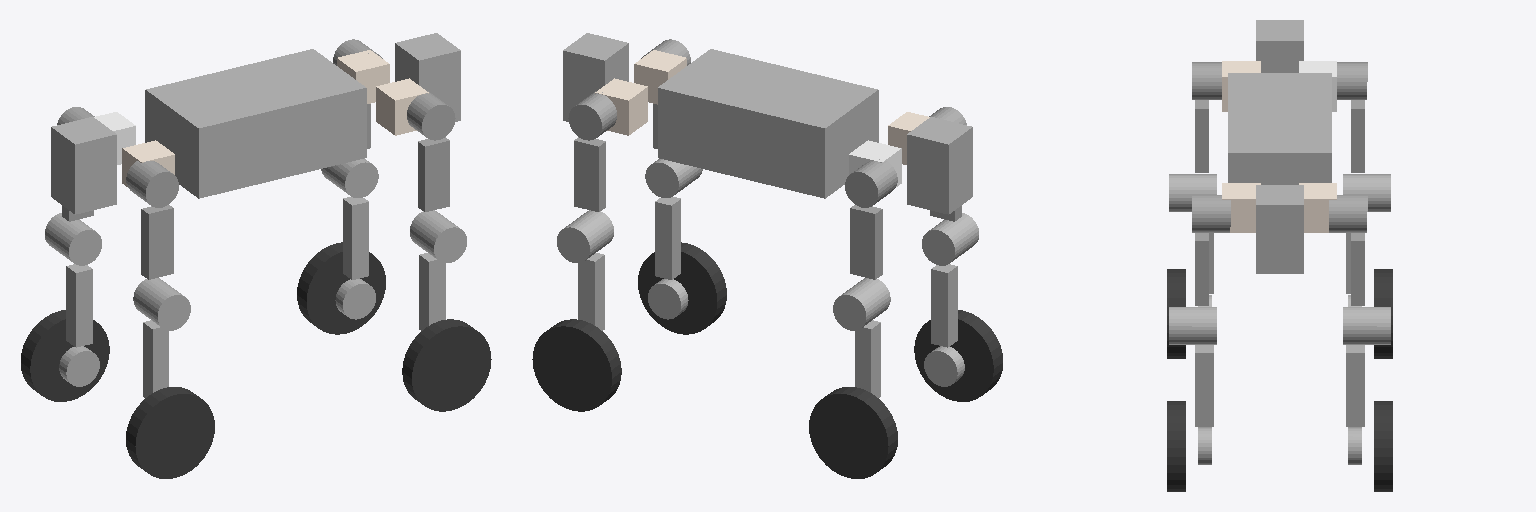
robot.urdf — ZJ_V3:
<?xml version='1.0' encoding='utf-8'?>
<robot name="ZJ_V3">
  <link name="BASE_LINK">
    <inertial>
      <origin xyz="0.002176 0.011832 -0.009523" rpy="0 0 0" />
      <mass value="20.25" />
      <inertia ixx="0.120345" ixy="0.000149" ixz="-0.003415" iyy="0.937020" iyz="0.001455" izz="0.987983" />
    </inertial>
    <visual name="BASE_LINK_primitive_visual_0">
      <origin xyz="0.41 0 0" rpy="0 0 0" />
      <geometry>
        <box size="0.10 0.10 0.16" />
      </geometry>
      <material name="">
        <color rgba="0.75294 0.75294 0.75294 1" />
      </material>
    </visual>
    <visual name="BASE_LINK_primitive_visual_1">
      <origin xyz="0 0 0" rpy="0 0 0" />
      <geometry>
        <box size="0.40 0.22 0.16" />
      </geometry>
      <material name="">
        <color rgba="0.75294 0.75294 0.75294 1" />
      </material>
    </visual>
    <visual name="BASE_LINK_primitive_visual_2">
      <origin xyz="-0.41 0 0" rpy="0 0 0" />
      <geometry>
        <box size="0.10 0.10 0.16" />
      </geometry>
      <material name="">
        <color rgba="0.75294 0.75294 0.75294 1" />
      </material>
    </visual>
    <collision>
      <origin xyz="0.41 0 0" rpy="0 0 0" />
      <geometry>
        <box size="0.10 0.10 0.16" />
      </geometry>
    </collision>
    <collision>
      <origin xyz="0 0 0" rpy="0 0 0" />
      <geometry>
        <box size="0.40 0.22 0.16" />
      </geometry>
    </collision>
    <collision>
      <origin xyz="-0.41 0 0" rpy="0 0 0" />
      <geometry>
        <box size="0.10 0.10 0.16" />
      </geometry>
    </collision>
  </link>
  <link name="FAR_ABAD_LINK">
    <inertial>
      <origin xyz="0.030211 -0.015926 4.7238E-07" rpy="0 0 0" />
      <mass value="0.26957" />
      <inertia ixx="0.00020169" ixy="7.0404E-05" ixz="2.0546E-09" iyy="0.00029273" iyz="1.5E-09" izz="0.00025789" />
    </inertial>
    <visual name="FAR_ABAD_LINK_fallback_visual">
      <origin xyz="0.030211 -0.015926 4.7238E-07" rpy="0 0 0" />
      <geometry>
        <box size="0.08 0.08 0.08" />
      </geometry>
      <material name="">
        <color rgba="1 0.94902 0.89804 1" />
      </material>
    </visual>
  </link>
  <joint name="FAR_ABAD_JOINT" type="revolute">
    <origin xyz="0.272 -0.065 0.0002" rpy="0 0 0" />
    <parent link="BASE_LINK" />
    <child link="FAR_ABAD_LINK" />
    <axis xyz="1 0 0" />
    <limit lower="-0.697" upper="0.523" effort="180" velocity="16.75" />
  </joint>
  <link name="FAR_HIP_LINK">
    <inertial>
      <origin xyz="0.000248 -0.054095 -0.124371" rpy="0 0 0" />
      <mass value="2.6525" />
      <inertia ixx="0.042044" ixy="-0.000008" ixz="-0.000080" iyy="0.041643" iyz="-0.005443" izz="0.002984" />
    </inertial>
    <visual name="FAR_HIP_LINK_primitive_visual_0">
      <origin xyz="0 -0.04 0" rpy="1.57 0 0" />
      <geometry>
        <cylinder length="0.08" radius="0.04" />
      </geometry>
      <material name="">
        <color rgba="0.698039215686274 0.698039215686274 0.698039215686274 1" />
      </material>
    </visual>
    <visual name="FAR_HIP_LINK_primitive_visual_1">
      <origin xyz="0 -0.06 -0.125" rpy="0 0 0" />
      <geometry>
        <box size="0.06 0.03 0.15" />
      </geometry>
      <material name="">
        <color rgba="0.698039215686274 0.698039215686274 0.698039215686274 1" />
      </material>
    </visual>
    <collision>
      <origin xyz="0 -0.04 0" rpy="1.57 0 0" />
      <geometry>
        <cylinder length="0.08" radius="0.04" />
      </geometry>
    </collision>
    <collision>
      <origin xyz="0 -0.06 -0.125" rpy="0 0 0" />
      <geometry>
        <box size="0.06 0.03 0.15" />
      </geometry>
    </collision>
  </link>
  <joint name="FAR_HIP_JOINT" type="revolute">
    <origin xyz="0.0575 -0.039 0" rpy="0 0 0" />
    <parent link="FAR_ABAD_LINK" />
    <child link="FAR_HIP_LINK" />
    <axis xyz="0 1 0" />
    <limit lower="-2.443" upper="2.443" effort="180" velocity="16.75" />
  </joint>
  <link name="FAR_KNEE_LINK">
    <inertial>
      <origin xyz="9.0281E-05 -0.024369 -0.17395" rpy="0 0 0" />
      <mass value="1.5888" />
      <inertia ixx="0.022185" ixy="-0.000003" ixz="0.000012" iyy="0.022093" iyz="-0.000132" izz="0.001572" />
    </inertial>
    <visual name="FAR_KNEE_LINK_primitive_visual_0">
      <origin xyz="0 -0.035 0" rpy="1.57 0 0" />
      <geometry>
        <cylinder length="0.10" radius="0.04" />
      </geometry>
      <material name="">
        <color rgba="0.75294 0.75294 0.75294 1" />
      </material>
    </visual>
    <visual name="FAR_KNEE_LINK_primitive_visual_1">
      <origin xyz="0.0 -0.01 -0.14" rpy="0 -0.0 0" />
      <geometry>
        <box size="0.04 0.04 0.17" />
      </geometry>
      <material name="">
        <color rgba="0.75294 0.75294 0.75294 1" />
      </material>
    </visual>
    <visual name="FAR_KNEE_LINK_primitive_visual_2">
      <origin xyz="0 -0.01 -0.28" rpy="1.57 0 0" />
      <geometry>
        <cylinder length="0.03" radius="0.04" />
      </geometry>
      <material name="">
        <color rgba="0.75294 0.75294 0.75294 1" />
      </material>
    </visual>
    <collision>
      <origin xyz="0 -0.035 0" rpy="1.57 0 0" />
      <geometry>
        <cylinder length="0.10" radius="0.04" />
      </geometry>
    </collision>
    <collision>
      <origin xyz="0.0 -0.01 -0.14" rpy="0 -0.0 0" />
      <geometry>
        <box size="0.04 0.04 0.17" />
      </geometry>
    </collision>
    <collision>
      <origin xyz="0 -0.01 -0.28" rpy="1.57 0 0" />
      <geometry>
        <cylinder length="0.03" radius="0.04" />
      </geometry>
    </collision>
  </link>
  <joint name="FAR_KNEE_JOINT" type="revolute">
    <origin xyz="0 -0.0442 -0.26" rpy="0 0 0" />
    <parent link="FAR_HIP_LINK" />
    <child link="FAR_KNEE_LINK" />
    <axis xyz="0 1 0" />
    <limit lower="-2.801" upper="2.801" effort="180" velocity="16.75" />
  </joint>
  <link name="FAR_FOOT_LINK">
    <inertial>
      <origin xyz="-0.000000 -0.007766 -1.0061E-06" rpy="0 0 0" />
      <mass value="0.68796" />
      <inertia ixx="0.0022048" ixy="1.0664E-10" ixz="1.131E-06" iyy="0.0041699" iyz="7.6444E-11" izz="0.0022106" />
    </inertial>
    <visual name="FAR_FOOT_LINK_primitive_visual_0">
      <origin xyz="0 -0.01 0" rpy="1.5707963267948966 0 0" />
      <geometry>
        <cylinder length="0.04" radius="0.095" />
      </geometry>
      <material name="">
        <color rgba="0.29804 0.29804 0.29804 1" />
      </material>
    </visual>
    <collision>
      <origin xyz="0 -0.01 0" rpy="1.5707963267948966 0 0" />
      <geometry>
        <cylinder length="0.04" radius="0.095" />
      </geometry>
    </collision>
  </link>
  <joint name="FAR_FOOT_JOINT" type="revolute">
    <origin xyz="0 -0.0592 -0.28" rpy="0 0 0" />
    <parent link="FAR_KNEE_LINK" />
    <child link="FAR_FOOT_LINK" />
    <axis xyz="0 1 0" />
    <limit lower="-99999" upper="99999" effort="28" velocity="110" />
  </joint>
  <link name="FBL_ABAD_LINK">
    <inertial>
      <origin xyz="0.030211 0.015926 2.3073E-06" rpy="0 0 0" />
      <mass value="0.26957" />
      <inertia ixx="0.00020169" ixy="-7.0404E-05" ixz="1.4342E-08" iyy="0.00029273" iyz="7.5809E-09" izz="0.00025789" />
    </inertial>
    <visual name="FBL_ABAD_LINK_fallback_visual">
      <origin xyz="0.030211 0.015926 2.3073E-06" rpy="0 0 0" />
      <geometry>
        <box size="0.08 0.08 0.08" />
      </geometry>
      <material name="">
        <color rgba="1 0.94902 0.89804 1" />
      </material>
    </visual>
  </link>
  <joint name="FBL_ABAD_JOINT" type="revolute">
    <origin xyz="0.272 0.065 0.0002" rpy="0 0 0" />
    <parent link="BASE_LINK" />
    <child link="FBL_ABAD_LINK" />
    <axis xyz="1 0 0" />
    <limit lower="-0.523" upper="0.697" effort="180" velocity="16.75" />
  </joint>
  <link name="FBL_HIP_LINK">
    <inertial>
      <origin xyz="-0.00024776 0.054095 -0.12437" rpy="0 0 0" />
      <mass value="2.6525" />
      <inertia ixx="0.042044" ixy="-0.000008" ixz="0.000080" iyy="0.041643" iyz="0.005443" izz="0.002984" />
    </inertial>
    <visual name="FBL_HIP_LINK_primitive_visual_0">
      <origin xyz="0 0.04 0" rpy="1.57 0 0" />
      <geometry>
        <cylinder length="0.08" radius="0.04" />
      </geometry>
      <material name="">
        <color rgba="0.69804 0.69804 0.69804 1" />
      </material>
    </visual>
    <visual name="FBL_HIP_LINK_primitive_visual_1">
      <origin xyz="0 0.06 -0.125" rpy="0 0 0" />
      <geometry>
        <box size="0.06 0.03 0.15" />
      </geometry>
      <material name="">
        <color rgba="0.69804 0.69804 0.69804 1" />
      </material>
    </visual>
    <collision>
      <origin xyz="0 0.04 0" rpy="1.57 0 0" />
      <geometry>
        <cylinder length="0.08" radius="0.04" />
      </geometry>
    </collision>
    <collision>
      <origin xyz="0 0.06 -0.125" rpy="0 0 0" />
      <geometry>
        <box size="0.06 0.03 0.15" />
      </geometry>
    </collision>
  </link>
  <joint name="FBL_HIP_JOINT" type="revolute">
    <origin xyz="0.0575 0.039 0" rpy="0.00017453 0 0" />
    <parent link="FBL_ABAD_LINK" />
    <child link="FBL_HIP_LINK" />
    <axis xyz="0 1 0" />
    <limit lower="-2.443" upper="2.443" effort="180" velocity="16.75" />
  </joint>
  <link name="FBL_KNEE_LINK">
    <inertial>
      <origin xyz="-9.0281E-05 0.024369 -0.17395" rpy="0 0 0" />
      <mass value="1.5888" />
      <inertia ixx="0.022185" ixy="-0.000003" ixz="-0.000012" iyy="0.022093" iyz="0.000132" izz="0.001572" />
    </inertial>
    <visual name="FBL_KNEE_LINK_primitive_visual_0">
      <origin xyz="0 0.035 0" rpy="1.57 0 0" />
      <geometry>
        <cylinder length="0.10" radius="0.04" />
      </geometry>
      <material name="">
        <color rgba="0.75294 0.75294 0.75294 1" />
      </material>
    </visual>
    <visual name="FBL_KNEE_LINK_primitive_visual_1">
      <origin xyz="0.0 0.01 -0.14" rpy="0 -0.0 0" />
      <geometry>
        <box size="0.04 0.04 0.17" />
      </geometry>
      <material name="">
        <color rgba="0.75294 0.75294 0.75294 1" />
      </material>
    </visual>
    <visual name="FBL_KNEE_LINK_primitive_visual_2">
      <origin xyz="0 0.01 -0.28" rpy="1.57 0 0" />
      <geometry>
        <cylinder length="0.03" radius="0.04" />
      </geometry>
      <material name="">
        <color rgba="0.75294 0.75294 0.75294 1" />
      </material>
    </visual>
    <collision>
      <origin xyz="0 0.035 0" rpy="1.57 0 0" />
      <geometry>
        <cylinder length="0.10" radius="0.04" />
      </geometry>
    </collision>
    <collision>
      <origin xyz="0.0 0.01 -0.14" rpy="0 -0.0 0" />
      <geometry>
        <box size="0.04 0.04 0.17" />
      </geometry>
    </collision>
    <collision>
      <origin xyz="0 0.01 -0.28" rpy="1.57 0 0" />
      <geometry>
        <cylinder length="0.03" radius="0.04" />
      </geometry>
    </collision>
  </link>
  <joint name="FBL_KNEE_JOINT" type="revolute">
    <origin xyz="0 0.0442 -0.26" rpy="0 0 0" />
    <parent link="FBL_HIP_LINK" />
    <child link="FBL_KNEE_LINK" />
    <axis xyz="0 1 0" />
    <limit lower="-2.801" upper="2.801" effort="180" velocity="16.75" />
  </joint>
  <link name="FBL_FOOT_LINK">
    <inertial>
      <origin xyz="2.0302E-07 0.007766 -1.006E-06" rpy="0 0 0" />
      <mass value="0.68796" />
      <inertia ixx="0.0022048" ixy="1.0716E-10" ixz="-1.131E-06" iyy="0.0041699" iyz="7.6787E-11" izz="0.0022106" />
    </inertial>
    <visual name="FBL_FOOT_LINK_primitive_visual_0">
      <origin xyz="0 0.01 0" rpy="1.5707963267948966 0 0" />
      <geometry>
        <cylinder length="0.04" radius="0.095" />
      </geometry>
      <material name="">
        <color rgba="0.29804 0.29804 0.29804 1" />
      </material>
    </visual>
    <collision>
      <origin xyz="0 0.01 0" rpy="1.5707963267948966 0 0" />
      <geometry>
        <cylinder length="0.04" radius="0.095" />
      </geometry>
    </collision>
  </link>
  <joint name="FBL_FOOT_JOINT" type="revolute">
    <origin xyz="0 0.0592 -0.28" rpy="0 0 0" />
    <parent link="FBL_KNEE_LINK" />
    <child link="FBL_FOOT_LINK" />
    <axis xyz="0 1 0" />
    <limit lower="-99999" upper="99999" effort="28" velocity="110" />
  </joint>
  <link name="RAR_ABAD_LINK">
    <inertial>
      <origin xyz="-0.030211 -0.015926 -4.7238E-07" rpy="0 0 0" />
      <mass value="0.26957" />
      <inertia ixx="0.00020169" ixy="-7.0404E-05" ixz="2.0546E-09" iyy="0.00029273" iyz="1.5E-09" izz="0.00025789" />
    </inertial>
    <visual name="RAR_ABAD_LINK_fallback_visual">
      <origin xyz="-0.030211 -0.015926 -4.7238E-07" rpy="0 0 0" />
      <geometry>
        <box size="0.08 0.08 0.08" />
      </geometry>
      <material name="">
        <color rgba="1 0.94902 0.89804 1" />
      </material>
    </visual>
  </link>
  <joint name="RAR_ABAD_JOINT" type="revolute">
    <origin xyz="-0.272 -0.065 0.0002" rpy="0 0 0" />
    <parent link="BASE_LINK" />
    <child link="RAR_ABAD_LINK" />
    <axis xyz="1 0 0" />
    <limit lower="-0.697" upper="0.523" effort="180" velocity="16.75" />
  </joint>
  <link name="RAR_HIP_LINK">
    <inertial>
      <origin xyz="0.00024776 -0.054095 -0.12437" rpy="0 0 0" />
      <mass value="2.6525" />
      <inertia ixx="0.042044" ixy="-0.000008" ixz="-0.000080" iyy="0.041643" iyz="-0.005443" izz="0.002984" />
    </inertial>
    <visual name="RAR_HIP_LINK_primitive_visual_0">
      <origin xyz="0 -0.04 0" rpy="1.57 0 0" />
      <geometry>
        <cylinder length="0.08" radius="0.04" />
      </geometry>
      <material name="">
        <color rgba="0.69804 0.69804 0.69804 1" />
      </material>
    </visual>
    <visual name="RAR_HIP_LINK_primitive_visual_1">
      <origin xyz="0 -0.06 -0.125" rpy="0 0 0" />
      <geometry>
        <box size="0.06 0.03 0.15" />
      </geometry>
      <material name="">
        <color rgba="0.69804 0.69804 0.69804 1" />
      </material>
    </visual>
    <collision>
      <origin xyz="0 -0.04 0" rpy="1.57 0 0" />
      <geometry>
        <cylinder length="0.08" radius="0.04" />
      </geometry>
    </collision>
    <collision>
      <origin xyz="0 -0.06 -0.125" rpy="0 0 0" />
      <geometry>
        <box size="0.06 0.03 0.15" />
      </geometry>
    </collision>
  </link>
  <joint name="RAR_HIP_JOINT" type="revolute">
    <origin xyz="-0.0575 -0.039 0" rpy="0 0 0" />
    <parent link="RAR_ABAD_LINK" />
    <child link="RAR_HIP_LINK" />
    <axis xyz="0 1 0" />
    <limit lower="-2.443" upper="2.443" effort="180" velocity="16.75" />
  </joint>
  <link name="RAR_KNEE_LINK">
    <inertial>
      <origin xyz="9.0281E-05 -0.024369 -0.17395" rpy="0 0 0" />
      <mass value="1.5888" />
      <inertia ixx="0.022185" ixy="-0.000003" ixz="0.000012" iyy="0.022093" iyz="-0.000132" izz="0.001572" />
    </inertial>
    <visual name="RAR_KNEE_LINK_primitive_visual_0">
      <origin xyz="0 -0.035 0" rpy="1.57 0 0" />
      <geometry>
        <cylinder length="0.10" radius="0.04" />
      </geometry>
      <material name="">
        <color rgba="0.75294 0.75294 0.75294 1" />
      </material>
    </visual>
    <visual name="RAR_KNEE_LINK_primitive_visual_1">
      <origin xyz="0.0 -0.01 -0.14" rpy="0 -0.0 0" />
      <geometry>
        <box size="0.04 0.04 0.17" />
      </geometry>
      <material name="">
        <color rgba="0.75294 0.75294 0.75294 1" />
      </material>
    </visual>
    <visual name="RAR_KNEE_LINK_primitive_visual_2">
      <origin xyz="0 -0.01 -0.28" rpy="1.57 0 0" />
      <geometry>
        <cylinder length="0.03" radius="0.04" />
      </geometry>
      <material name="">
        <color rgba="0.75294 0.75294 0.75294 1" />
      </material>
    </visual>
    <collision>
      <origin xyz="0 -0.035 0" rpy="1.57 0 0" />
      <geometry>
        <cylinder length="0.10" radius="0.04" />
      </geometry>
    </collision>
    <collision>
      <origin xyz="0.0 -0.01 -0.14" rpy="0 -0.0 0" />
      <geometry>
        <box size="0.04 0.04 0.17" />
      </geometry>
    </collision>
    <collision>
      <origin xyz="0 -0.01 -0.28" rpy="1.57 0 0" />
      <geometry>
        <cylinder length="0.03" radius="0.04" />
      </geometry>
    </collision>
  </link>
  <joint name="RAR_KNEE_JOINT" type="revolute">
    <origin xyz="0 -0.0442 -0.26" rpy="0 0 0" />
    <parent link="RAR_HIP_LINK" />
    <child link="RAR_KNEE_LINK" />
    <axis xyz="0 1 0" />
    <limit lower="-2.801" upper="2.801" effort="180" velocity="16.75" />
  </joint>
  <link name="RAR_FOOT_LINK">
    <inertial>
      <origin xyz="-2.0294E-07 -0.007766 -1.006E-06" rpy="0 0 0" />
      <mass value="0.68796" />
      <inertia ixx="0.0022048" ixy="1.0789E-10" ixz="1.131E-06" iyy="0.0041699" iyz="7.6641E-11" izz="0.0022106" />
    </inertial>
    <visual name="RAR_FOOT_LINK_primitive_visual_0">
      <origin xyz="0 -0.01 0" rpy="1.5707963267948966 0 0" />
      <geometry>
        <cylinder length="0.04" radius="0.095" />
      </geometry>
      <material name="">
        <color rgba="0.29804 0.29804 0.29804 1" />
      </material>
    </visual>
    <collision>
      <origin xyz="0 -0.01 0" rpy="1.5707963267948966 0 0" />
      <geometry>
        <cylinder length="0.04" radius="0.095" />
      </geometry>
    </collision>
  </link>
  <joint name="RAR_FOOT_JOINT" type="revolute">
    <origin xyz="0 -0.0592 -0.28" rpy="0 0 0" />
    <parent link="RAR_KNEE_LINK" />
    <child link="RAR_FOOT_LINK" />
    <axis xyz="0 1 0" />
    <limit lower="-99999" upper="99999" effort="28" velocity="110" />
  </joint>
  <link name="RBL_ABAD_LINK">
    <inertial>
      <origin xyz="-0.030211 0.015926 0.000000" rpy="0 0 0" />
      <mass value="0.26957" />
      <inertia ixx="0.00020169" ixy="0.000070" ixz="0.000000" iyy="0.00029273" iyz="0.000000" izz="0.00025879" />
    </inertial>
    <visual name="RBL_ABAD_LINK_fallback_visual">
      <origin xyz="-0.030211 0.015926 0.000000" rpy="0 0 0" />
      <geometry>
        <box size="0.08 0.08 0.08" />
      </geometry>
      <material name="">
        <color rgba="1 1 1 1" />
      </material>
    </visual>
  </link>
  <joint name="RBL_ABAD_JOINT" type="revolute">
    <origin xyz="-0.272 0.065 0.0002" rpy="0 0 0" />
    <parent link="BASE_LINK" />
    <child link="RBL_ABAD_LINK" />
    <axis xyz="1 0 0" />
    <limit lower="-0.523" upper="0.697" effort="180" velocity="16.75" />
  </joint>
  <link name="RBL_HIP_LINK">
    <inertial>
      <origin xyz="-0.00024776 0.054095 -0.12437" rpy="0 0 0" />
      <mass value="2.6525" />
      <inertia ixx="0.042044" ixy="-0.000008" ixz="0.000080" iyy="0.041643" iyz="0.005443" izz="0.002984" />
    </inertial>
    <visual name="RBL_HIP_LINK_primitive_visual_0">
      <origin xyz="0 0.04 0" rpy="1.57 0 0" />
      <geometry>
        <cylinder length="0.08" radius="0.04" />
      </geometry>
      <material name="">
        <color rgba="0.69804 0.69804 0.69804 1" />
      </material>
    </visual>
    <visual name="RBL_HIP_LINK_primitive_visual_1">
      <origin xyz="0 0.06 -0.125" rpy="0 0 0" />
      <geometry>
        <box size="0.06 0.03 0.15" />
      </geometry>
      <material name="">
        <color rgba="0.69804 0.69804 0.69804 1" />
      </material>
    </visual>
    <collision>
      <origin xyz="0 0.04 0" rpy="1.57 0 0" />
      <geometry>
        <cylinder length="0.08" radius="0.04" />
      </geometry>
    </collision>
    <collision>
      <origin xyz="0 0.06 -0.125" rpy="0 0 0" />
      <geometry>
        <box size="0.06 0.03 0.15" />
      </geometry>
    </collision>
  </link>
  <joint name="RBL_HIP_JOINT" type="revolute">
    <origin xyz="-0.0575 0.039 0" rpy="0 0 0" />
    <parent link="RBL_ABAD_LINK" />
    <child link="RBL_HIP_LINK" />
    <axis xyz="0 1 0" />
    <limit lower="-2.443" upper="2.443" effort="180" velocity="16.75" />
  </joint>
  <link name="RBL_KNEE_LINK">
    <inertial>
      <origin xyz="-9.0281E-05 0.024369 -0.17395" rpy="0 0 0" />
      <mass value="1.5888" />
      <inertia ixx="0.022185" ixy="-0.000003" ixz="-0.000012" iyy="0.022093" iyz="0.000132" izz="0.001572" />
    </inertial>
    <visual name="RBL_KNEE_LINK_primitive_visual_0">
      <origin xyz="0 0.035 0" rpy="1.57 0 0" />
      <geometry>
        <cylinder length="0.10" radius="0.04" />
      </geometry>
      <material name="">
        <color rgba="0.75294 0.75294 0.75294 1" />
      </material>
    </visual>
    <visual name="RBL_KNEE_LINK_primitive_visual_1">
      <origin xyz="0.0 0.01 -0.14" rpy="0 -0.0 0" />
      <geometry>
        <box size="0.04 0.04 0.17" />
      </geometry>
      <material name="">
        <color rgba="0.75294 0.75294 0.75294 1" />
      </material>
    </visual>
    <visual name="RBL_KNEE_LINK_primitive_visual_2">
      <origin xyz="0 0.01 -0.28" rpy="1.57 0 0" />
      <geometry>
        <cylinder length="0.03" radius="0.04" />
      </geometry>
      <material name="">
        <color rgba="0.75294 0.75294 0.75294 1" />
      </material>
    </visual>
    <collision>
      <origin xyz="0 0.035 0" rpy="1.57 0 0" />
      <geometry>
        <cylinder length="0.10" radius="0.04" />
      </geometry>
    </collision>
    <collision>
      <origin xyz="0.0 0.01 -0.14" rpy="0 -0.0 0" />
      <geometry>
        <box size="0.04 0.04 0.17" />
      </geometry>
    </collision>
    <collision>
      <origin xyz="0 0.01 -0.28" rpy="1.57 0 0" />
      <geometry>
        <cylinder length="0.03" radius="0.04" />
      </geometry>
    </collision>
  </link>
  <joint name="RBL_KNEE_JOINT" type="revolute">
    <origin xyz="0 0.0442 -0.26" rpy="0 0 0" />
    <parent link="RBL_HIP_LINK" />
    <child link="RBL_KNEE_LINK" />
    <axis xyz="0 1 0" />
    <limit lower="-2.801" upper="2.801" effort="180" velocity="16.75" />
  </joint>
  <link name="RBL_FOOT_LINK">
    <inertial>
      <origin xyz="2.0294E-07 0.007766 -1.006E-06" rpy="0 0 0" />
      <mass value="0.68796" />
      <inertia ixx="0.0022048" ixy="1.0789E-10" ixz="-1.131E-06" iyy="0.0041699" iyz="7.6642E-11" izz="0.0022106" />
    </inertial>
    <visual name="RBL_FOOT_LINK_primitive_visual_0">
      <origin xyz="0 0.01 0" rpy="1.5707963267948966 0 0" />
      <geometry>
        <cylinder length="0.04" radius="0.095" />
      </geometry>
      <material name="">
        <color rgba="0.29804 0.29804 0.29804 1" />
      </material>
    </visual>
    <collision>
      <origin xyz="0 0.01 0" rpy="1.5707963267948966 0 0" />
      <geometry>
        <cylinder length="0.04" radius="0.095" />
      </geometry>
    </collision>
  </link>
  <joint name="RBL_FOOT_JOINT" type="revolute">
    <origin xyz="0 0.0592 -0.28" rpy="0 0 0" />
    <parent link="RBL_KNEE_LINK" />
    <child link="RBL_FOOT_LINK" />
    <axis xyz="0 1 0" />
    <limit lower="-99999" upper="99999" effort="28" velocity="110" />
  </joint>
</robot>

--- Render facts (derived) ---
3 views of the same robot in one strip: view 1: azimuth 30°, elevation 25°; view 2: azimuth 150°, elevation 25°; view 3: azimuth 270°, elevation 25° (orthographic).
Robot: ZJ_V3 — 17 links, 16 joints (16 revolute); root link BASE_LINK; default pose: all joints at 0.
Visible links, largest first — view 1: BASE_LINK, RAR_FOOT_LINK, FAR_FOOT_LINK, RBL_KNEE_LINK, FBL_KNEE_LINK, FBL_FOOT_LINK, RBL_FOOT_LINK, RAR_HIP_LINK, FAR_HIP_LINK, FAR_KNEE_LINK, RAR_KNEE_LINK, FAR_ABAD_LINK (+5 smaller); view 2: BASE_LINK, RBL_FOOT_LINK, FBL_FOOT_LINK, RAR_KNEE_LINK, FAR_KNEE_LINK, FAR_FOOT_LINK, RAR_FOOT_LINK, RBL_HIP_LINK, FBL_HIP_LINK, FBL_KNEE_LINK, RBL_KNEE_LINK, FBL_ABAD_LINK (+5 smaller); view 3: BASE_LINK, FAR_KNEE_LINK, FBL_KNEE_LINK, FAR_HIP_LINK, FBL_HIP_LINK, RBL_HIP_LINK, RAR_HIP_LINK, RAR_KNEE_LINK, RBL_KNEE_LINK, FAR_FOOT_LINK, FBL_FOOT_LINK, FAR_ABAD_LINK (+5 smaller).
Boxes of the visible links, box(x1,y1,x2,y2) form: BASE_LINK: box(51, 33, 460, 214); RAR_FOOT_LINK: box(126, 387, 214, 478); FAR_FOOT_LINK: box(402, 319, 491, 411); RBL_KNEE_LINK: box(45, 213, 101, 386); FBL_KNEE_LINK: box(321, 158, 378, 319); FBL_FOOT_LINK: box(297, 242, 385, 334); RBL_FOOT_LINK: box(21, 310, 109, 401); RAR_HIP_LINK: box(126, 161, 178, 279); FAR_HIP_LINK: box(407, 91, 455, 211); FAR_KNEE_LINK: box(410, 210, 466, 330); RAR_KNEE_LINK: box(133, 278, 190, 397); FAR_ABAD_LINK: box(376, 78, 428, 135); BASE_LINK: box(563, 33, 972, 214); RBL_FOOT_LINK: box(809, 387, 897, 478); FBL_FOOT_LINK: box(532, 319, 621, 411); RAR_KNEE_LINK: box(922, 213, 978, 386); FAR_KNEE_LINK: box(645, 158, 702, 319); FAR_FOOT_LINK: box(638, 242, 726, 334); RAR_FOOT_LINK: box(914, 310, 1002, 401); RBL_HIP_LINK: box(845, 159, 897, 279); FBL_HIP_LINK: box(568, 91, 616, 211); FBL_KNEE_LINK: box(557, 210, 613, 330); RBL_KNEE_LINK: box(833, 278, 890, 397); FBL_ABAD_LINK: box(595, 78, 647, 135); BASE_LINK: box(1228, 20, 1331, 273); FAR_KNEE_LINK: box(1169, 307, 1216, 464); FBL_KNEE_LINK: box(1343, 307, 1390, 464); FAR_HIP_LINK: box(1192, 195, 1230, 305); FBL_HIP_LINK: box(1329, 195, 1367, 305); RBL_HIP_LINK: box(1337, 62, 1367, 172); RAR_HIP_LINK: box(1192, 62, 1221, 172); RAR_KNEE_LINK: box(1169, 174, 1216, 306); RBL_KNEE_LINK: box(1343, 174, 1390, 306); FAR_FOOT_LINK: box(1167, 401, 1185, 491); FBL_FOOT_LINK: box(1374, 401, 1392, 491); FAR_ABAD_LINK: box(1222, 183, 1260, 232).
Size in the robot's own frame: 0.92 by 0.4749 by 0.7148 metres.
Geometry: primitives only (box / cylinder / sphere), no mesh files.
